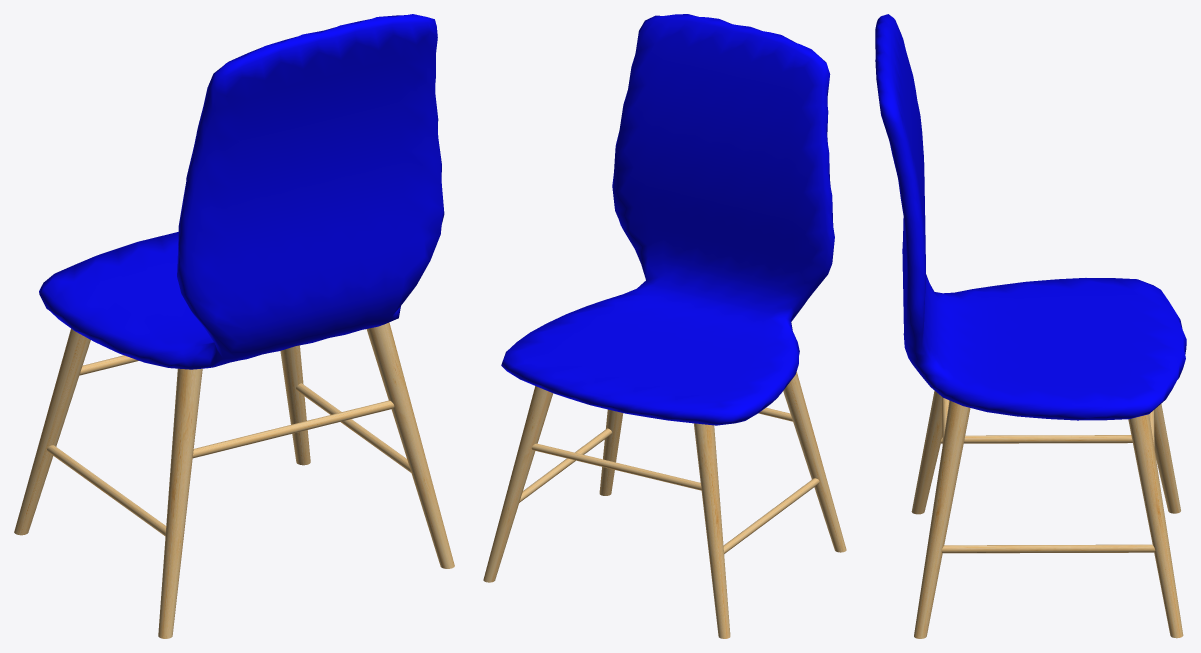
File: chair1_blue.obj
The picture shows the model from 3 angles, left to right: view 1: azimuth 30°, elevation 25°; view 2: azimuth 150°, elevation 25°; view 3: azimuth 270°, elevation 25°; orthographic projection. The views are drawn at different scales.
Visible parts, largest first — view 1: Box7268, Cone062, Cone061, Cone060, Cylinder388, Cone059, Cylinder389, Cylinder390; view 2: Box7268, Cone060, Cone059, Cone062, Cylinder387, Cone061, Cylinder389, Cylinder390; view 3: Box7268, Cone061, Cone059, Cylinder390, Cone062, Cylinder389, Cone060.
Boxes of the visible parts, left/top/right/bottom form: Box7268: left=39, top=14, right=444, bottom=369; Cone062: left=158, top=368, right=202, bottom=638; Cone061: left=366, top=322, right=454, bottom=568; Cone060: left=14, top=328, right=90, bottom=535; Cylinder388: left=192, top=400, right=394, bottom=458; Cone059: left=280, top=345, right=310, bottom=465; Cylinder389: left=47, top=445, right=166, bottom=536; Cylinder390: left=296, top=383, right=411, bottom=472; Box7268: left=501, top=14, right=834, bottom=425; Cone060: left=693, top=423, right=730, bottom=638; Cone059: left=483, top=386, right=552, bottom=582; Cone062: left=783, top=372, right=846, bottom=552; Cylinder387: left=531, top=443, right=701, bottom=490; Cone061: left=599, top=409, right=623, bottom=495; Cylinder389: left=723, top=478, right=819, bottom=553; Cylinder390: left=519, top=428, right=612, bottom=502; Box7268: left=875, top=14, right=1186, bottom=420; Cone061: left=914, top=400, right=970, bottom=638; Cone059: left=1128, top=414, right=1183, bottom=638; Cylinder390: left=941, top=544, right=1155, bottom=553; Cone062: left=911, top=390, right=942, bottom=514; Cylinder389: left=940, top=435, right=1132, bottom=443; Cone060: left=1154, top=404, right=1180, bottom=513.
Size of the model in its own units: 38.45 by 71.65 by 38.32.
Materials: 2 (1 with a texture image).
